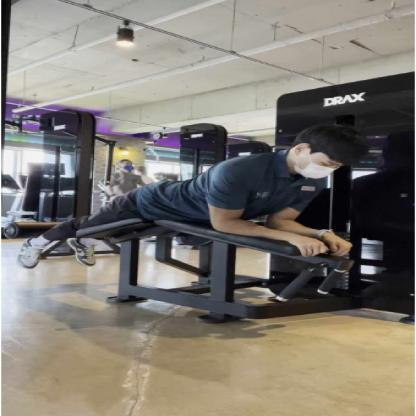reg curl machine: (3, 63, 416, 340)
